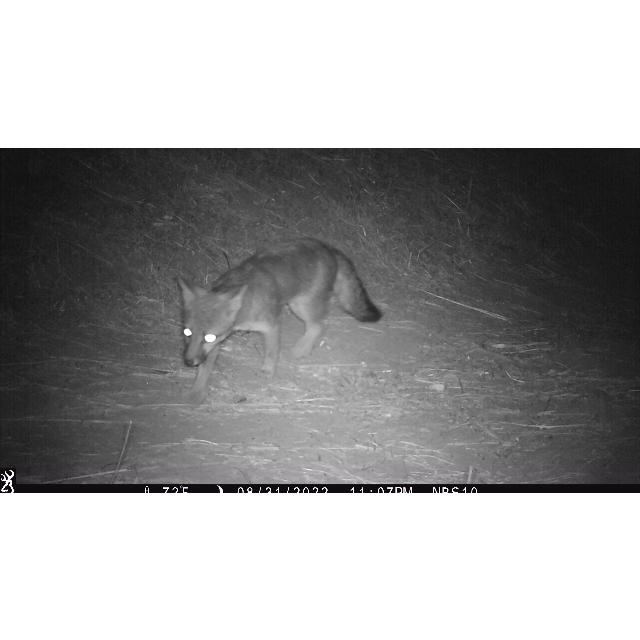animals: (174, 236, 384, 392)
